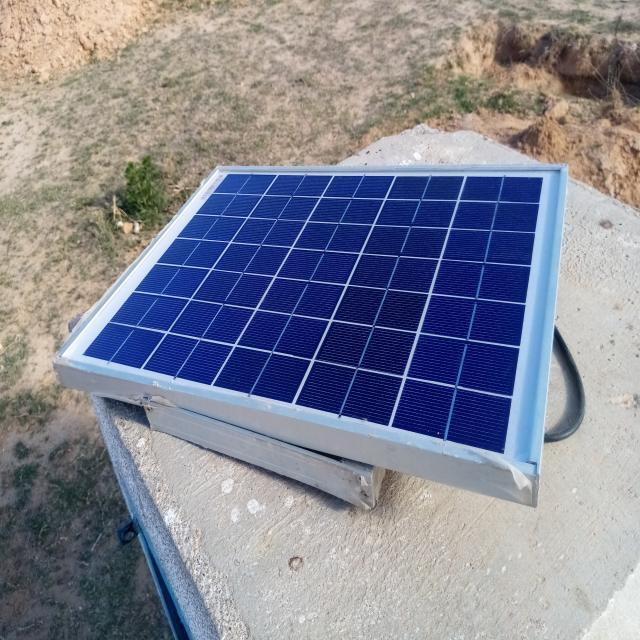no faulty: (57, 166, 563, 474)
